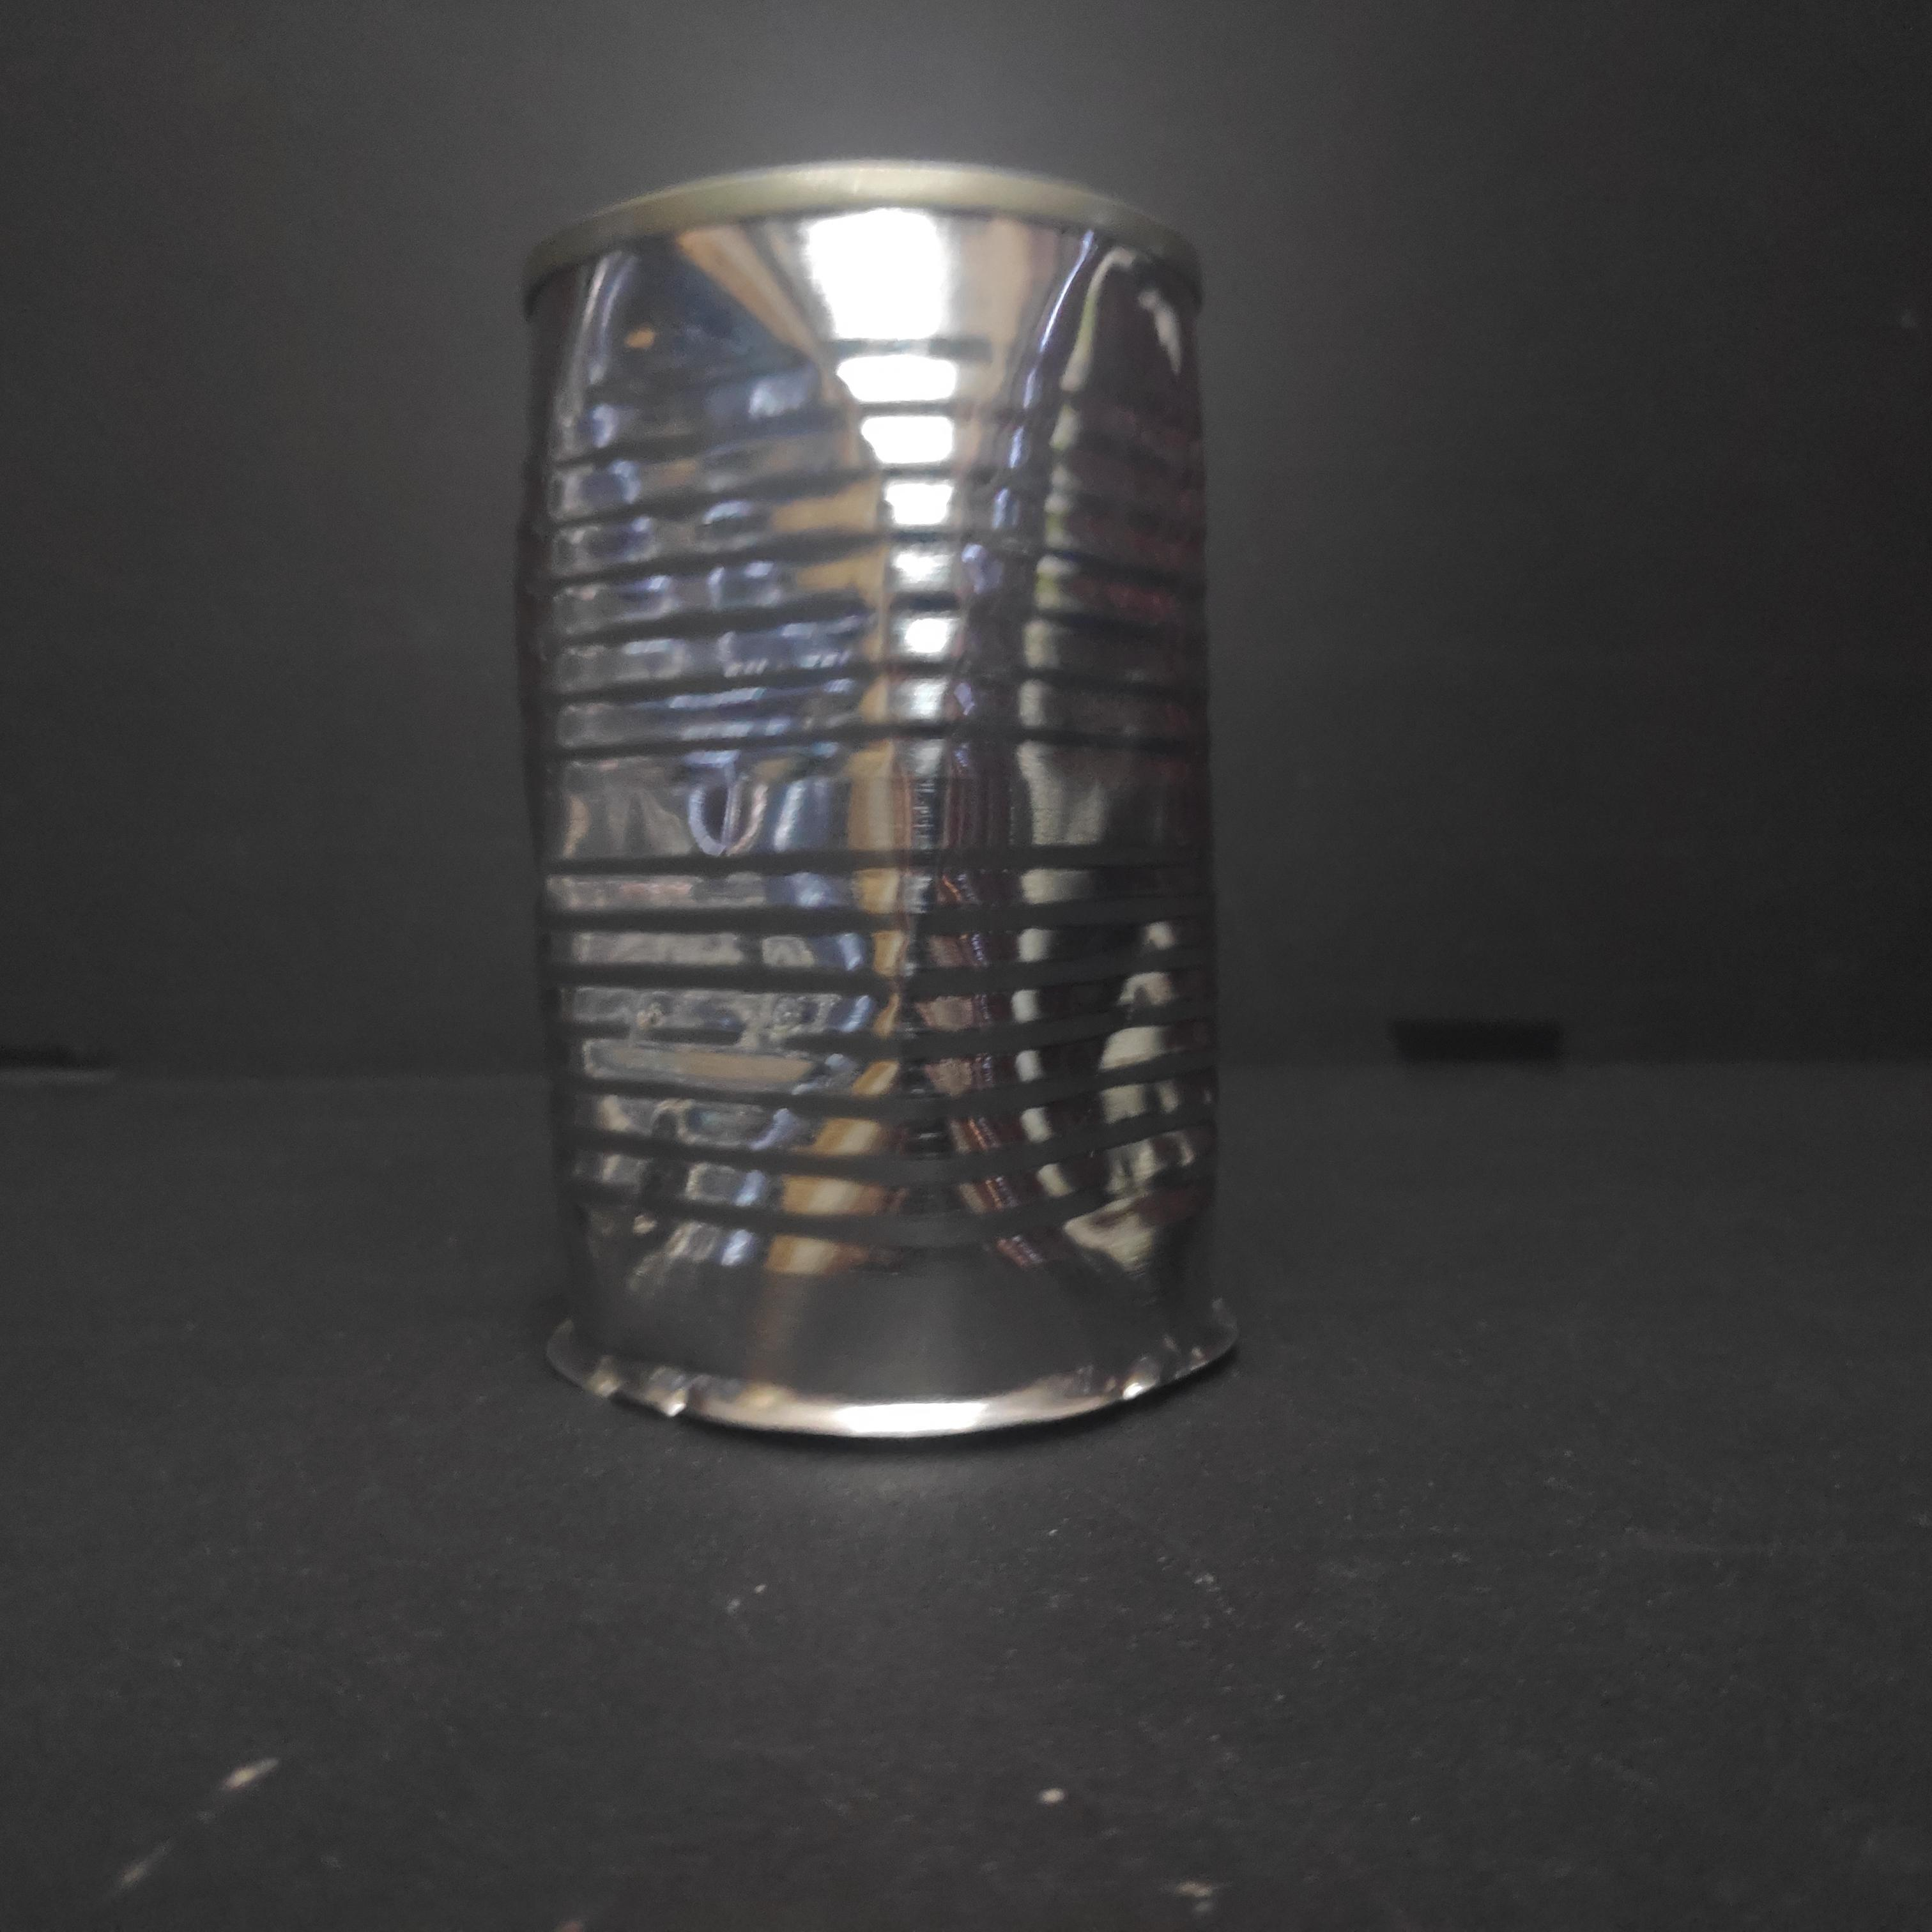Dented: (472, 134, 1258, 1479)
